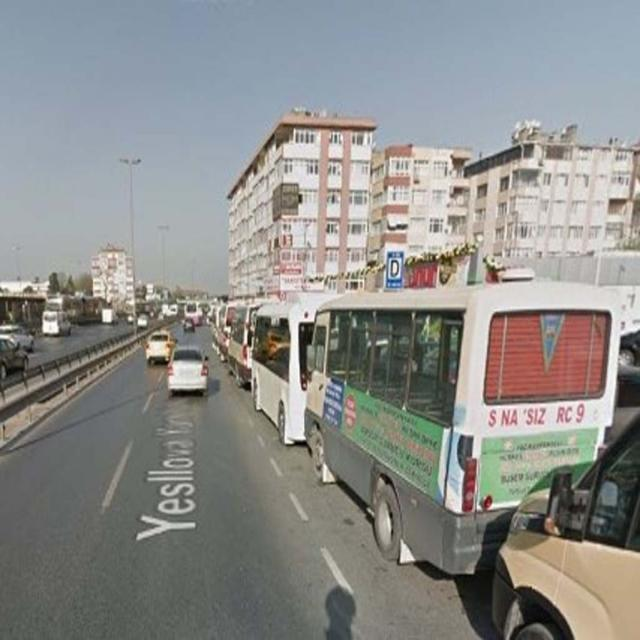durak: (386, 250, 404, 292)
